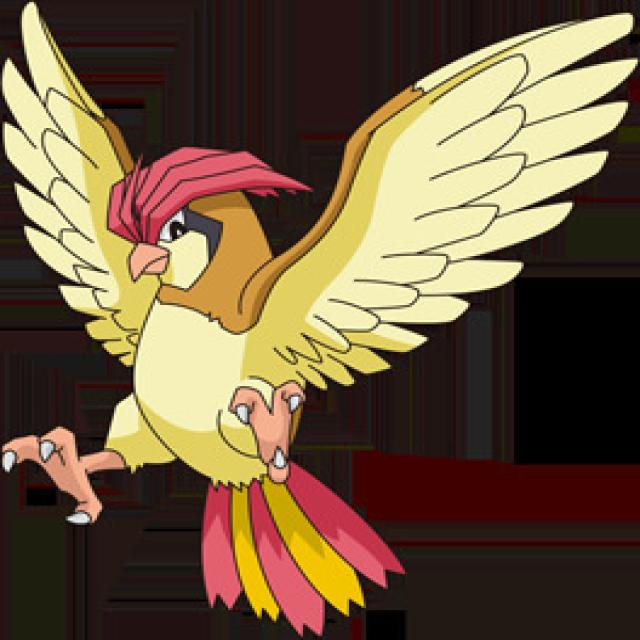Pidgeotto: (0, 47, 428, 587)
